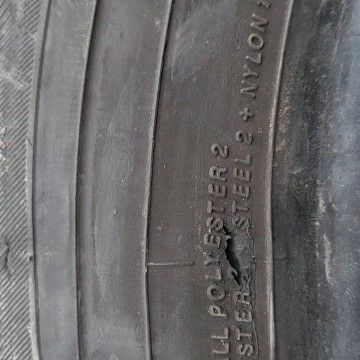cut: (218, 221, 244, 289)
